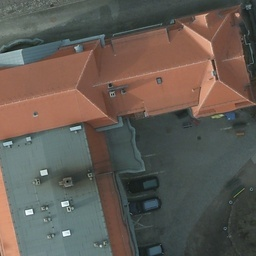car: (125, 176, 161, 194), (127, 199, 162, 213)
